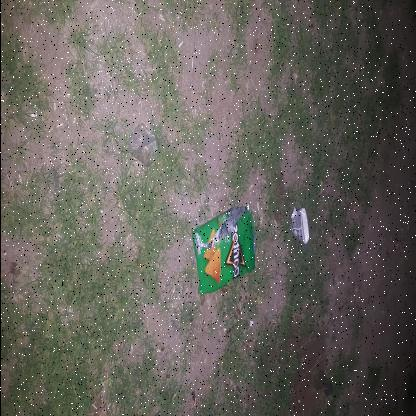cardboard: (289, 206, 311, 247)
plastic: (186, 204, 259, 296)
